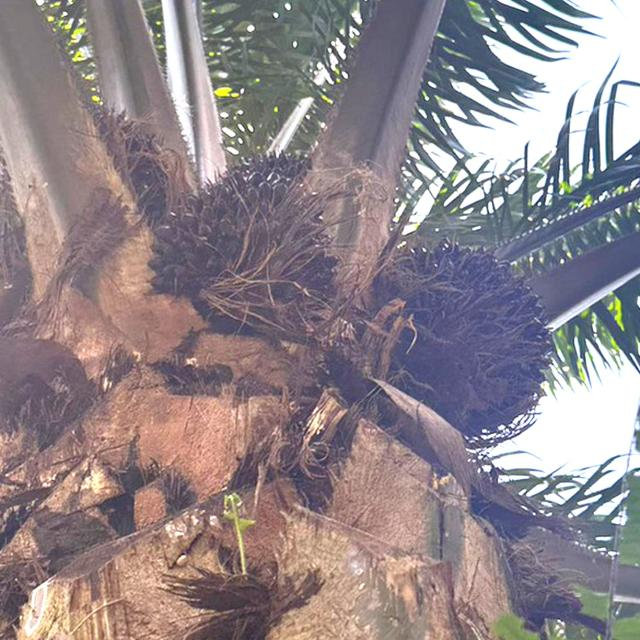almost: (146, 142, 336, 309)
